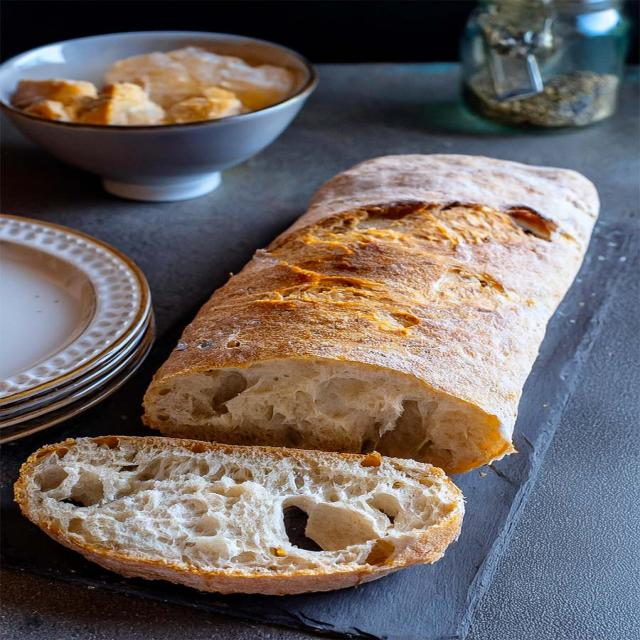Ciabatta: (144, 155, 599, 474)
